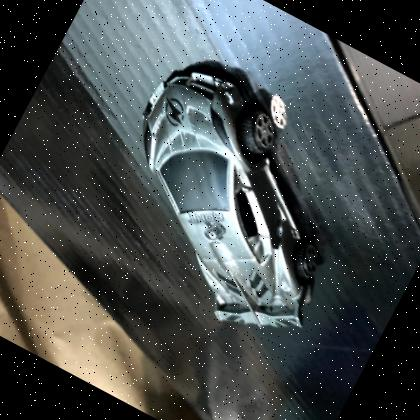Car: (142, 66, 324, 328)
